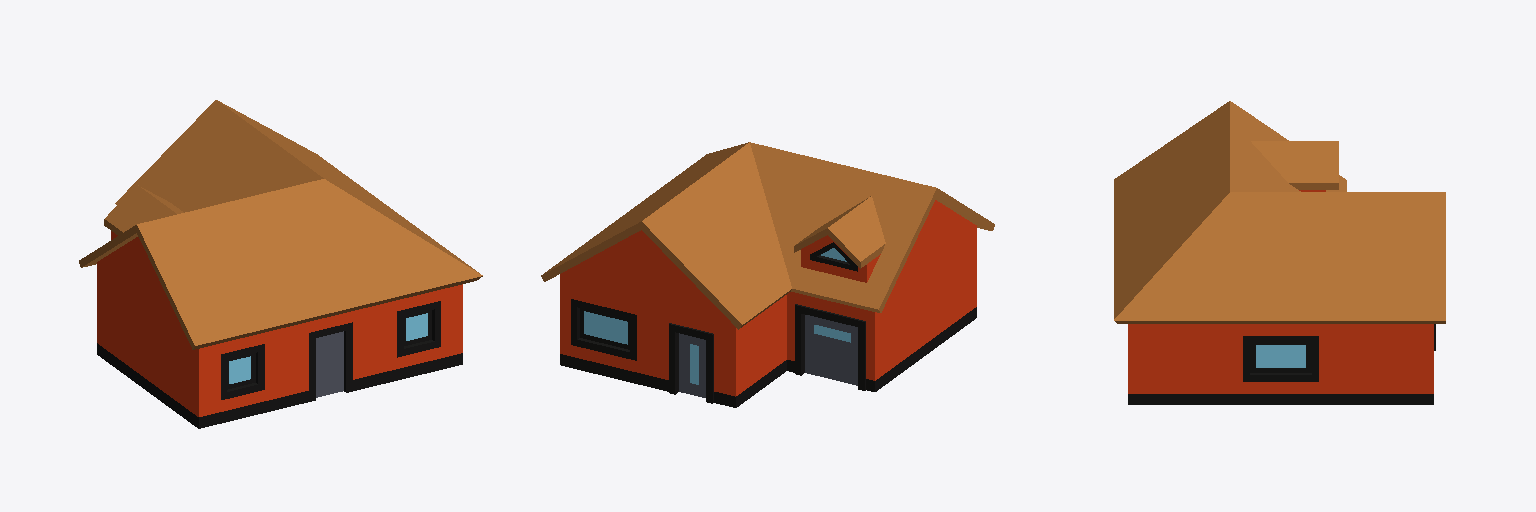
The model's file is insta_residential_beton_1.obj.
3 views of the same model, side by side, from view 1: azimuth 30°, elevation 25°; view 2: azimuth 150°, elevation 25°; view 3: azimuth 270°, elevation 25° (orthographic).
Parts seen in each view (by area): view 1: city_residential_1; view 2: city_residential_1; view 3: city_residential_1.
Boxes of the visible parts, box(x1,y1,x2,y2) form: city_residential_1: box(79, 100, 482, 428); city_residential_1: box(541, 142, 994, 407); city_residential_1: box(1114, 101, 1445, 404).
Size of the model in its own units: 0.9418 by 0.531 by 0.9418.